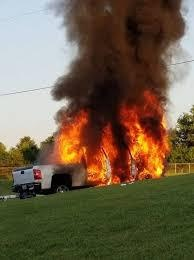fire: (54, 90, 173, 185)
